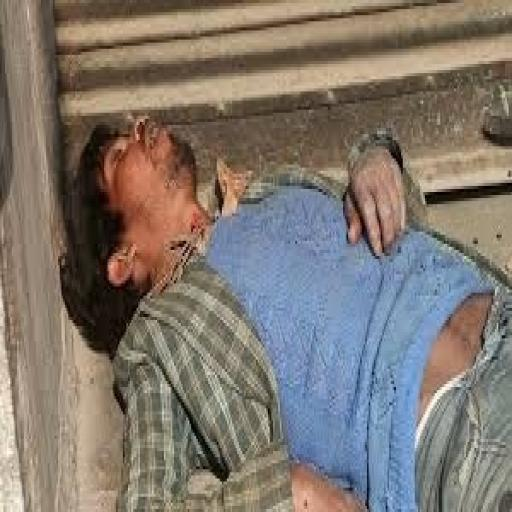sleeping: (67, 107, 510, 509)
